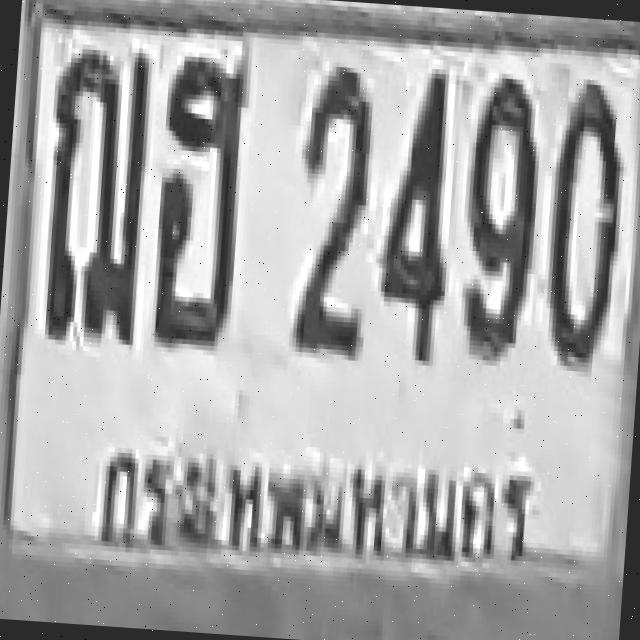0: (536, 68, 640, 434)
2: (268, 40, 403, 388)
21ChorChoe: (16, 20, 168, 373)
4: (368, 64, 470, 388)
53HorNokHook: (139, 22, 285, 360)
9: (456, 62, 554, 410)
Bangkok: (88, 408, 550, 624)
